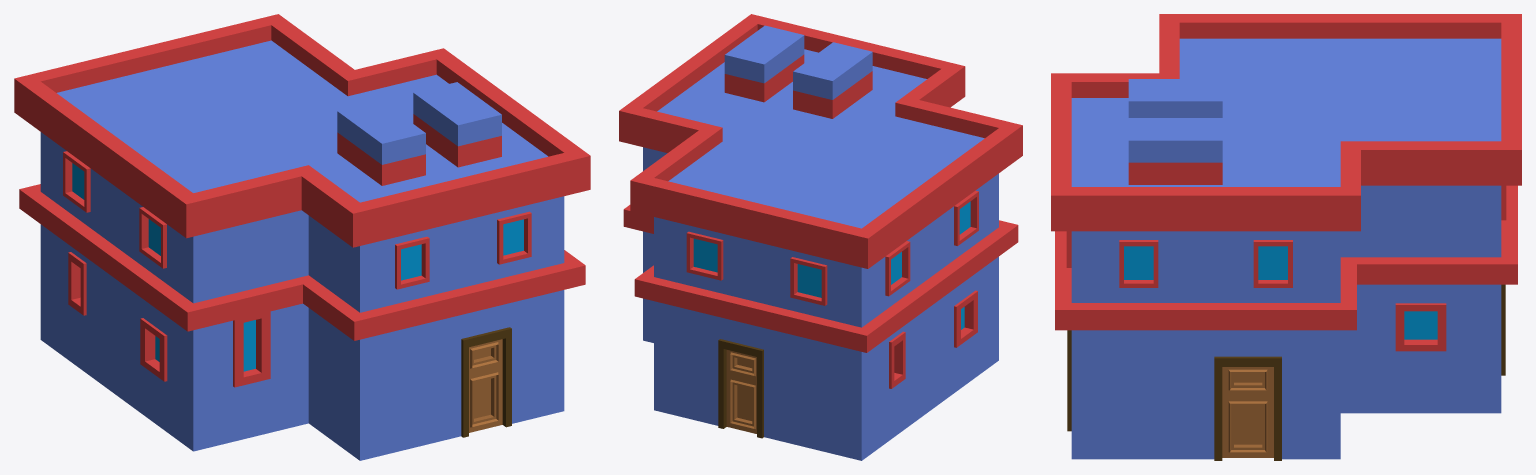
The model's file is House-2.fbx.
3 views of the same model, side by side, from view 1: azimuth 30°, elevation 25°; view 2: azimuth 150°, elevation 25°; view 3: azimuth 270°, elevation 25° (orthographic). The views are drawn at different scales.
Visible parts, largest first — view 1: House-2; view 2: House-2; view 3: House-2.
Boxes of the visible parts, x1,y1,x2,y2 form: House-2: [14, 14, 590, 460]; House-2: [619, 14, 1022, 460]; House-2: [1051, 14, 1521, 460].
Bounding box in the file's own units: 17.83 × 13.76 × 19.53.
